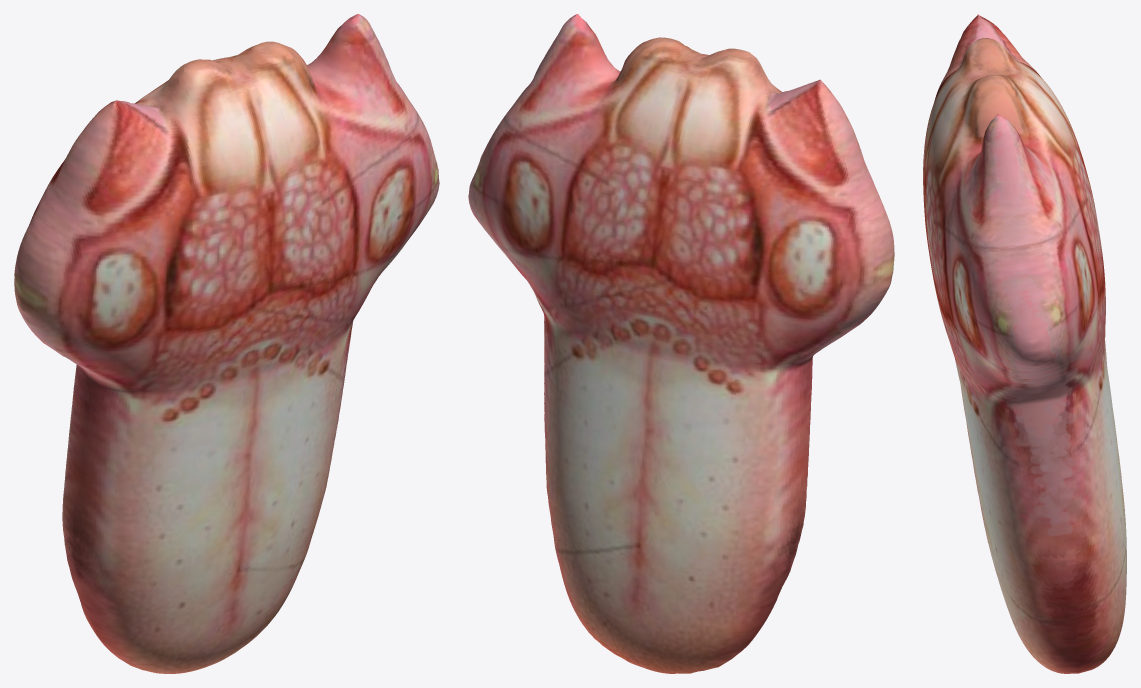
The model's file is lidah.glb.
3 views of the same model, side by side, from view 1: azimuth 30°, elevation 25°; view 2: azimuth 150°, elevation 25°; view 3: azimuth 270°, elevation 25° (orthographic). The views are drawn at different scales.
Parts seen in each view (by area): view 1: root_Material_161_0; view 2: root_Material_161_0; view 3: root_Material_161_0.
Boxes of the visible parts, x1,y1,x2,y2 form: root_Material_161_0: (14,14,439,673); root_Material_161_0: (468,14,894,673); root_Material_161_0: (923,14,1126,673).
Bounding box in the file's own units: 0.2614 × 0.3729 × 0.113.
Materials: 1 (1 with a texture image).
